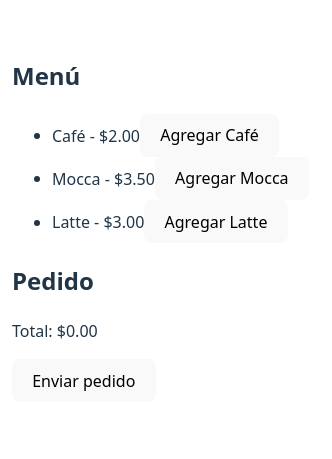
Test: elimina un producto del pedido sin borrar todo
What coordinates should you click on to do the following:
click the button "Agregar Café"
I would click on:
 (210, 135)
Its box is [140,114,279,157].
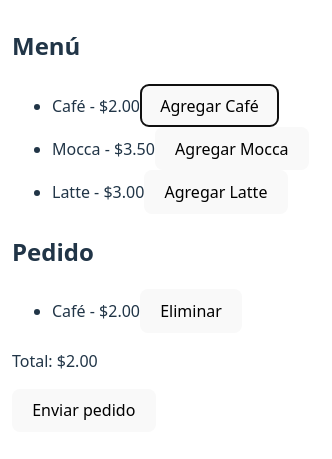
What coordinates should you click on to do the following:
click the button "Agregar Mocca"
I would click on:
 (232, 149)
Its box is [155,127,309,170].
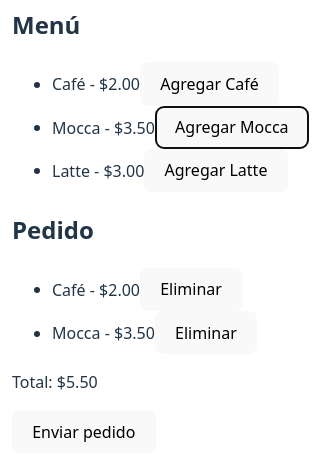
Check: the list named "pedido" shows "Café", box [52,278,86,300]
Check: the list named "pedido" shows "Mocca", box [52,322,100,344]
What coordinates should you click on to do the following:
click the 2nd button "Eliminar"
I would click on:
 (206, 333)
Its box is [155,311,257,354].
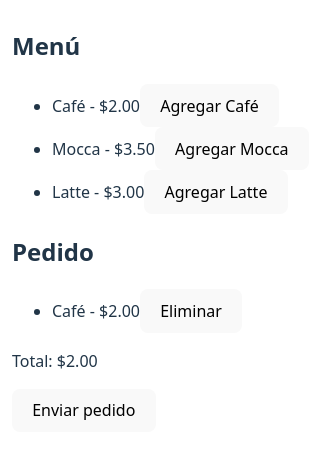
Check: the list named "pedido" does not show "Mocca", box [52,289,242,333]
Check: the list named "pedido" shows "Café", box [52,300,86,322]
Check: the text "Total: $2.00" is shown, box [12,350,98,372]
